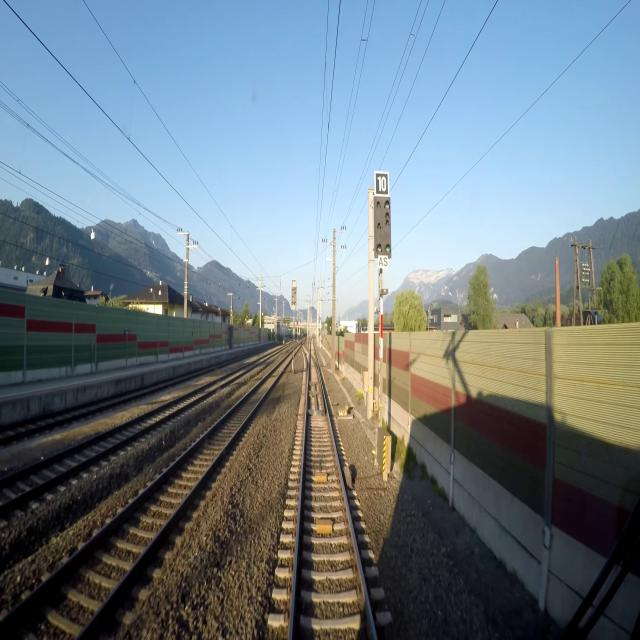rail-track: (0, 356, 290, 639), (0, 377, 228, 501), (294, 359, 372, 639), (0, 389, 149, 441)
